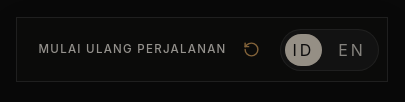
ScrollNavigation › updates the replay label with the selected language and scrolls to the start
The width and height of the screenshot is (405, 102).
Later steps or results of the test are not shown.
Expected: the element showing "Mulai ulang perjalanan id en" has style "opacity: 0.6", [16,17,388,82]
Expected: the button "Mulai ulang perjalanan" is shown, [35,23,264,75]
Click the button "en": (352, 49) [330,33,374,65]
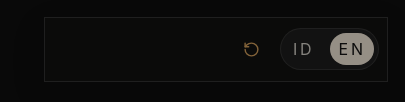
Now the button named "Restart the journey" is shown
Click the button named "Restart the journey": (164, 49) [63,23,264,75]
Click the button "id": (304, 49) [285,33,322,65]
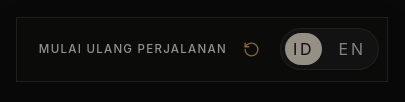
Now the button "Mulai ulang perjalanan" is shown, box [35,23,264,75]
